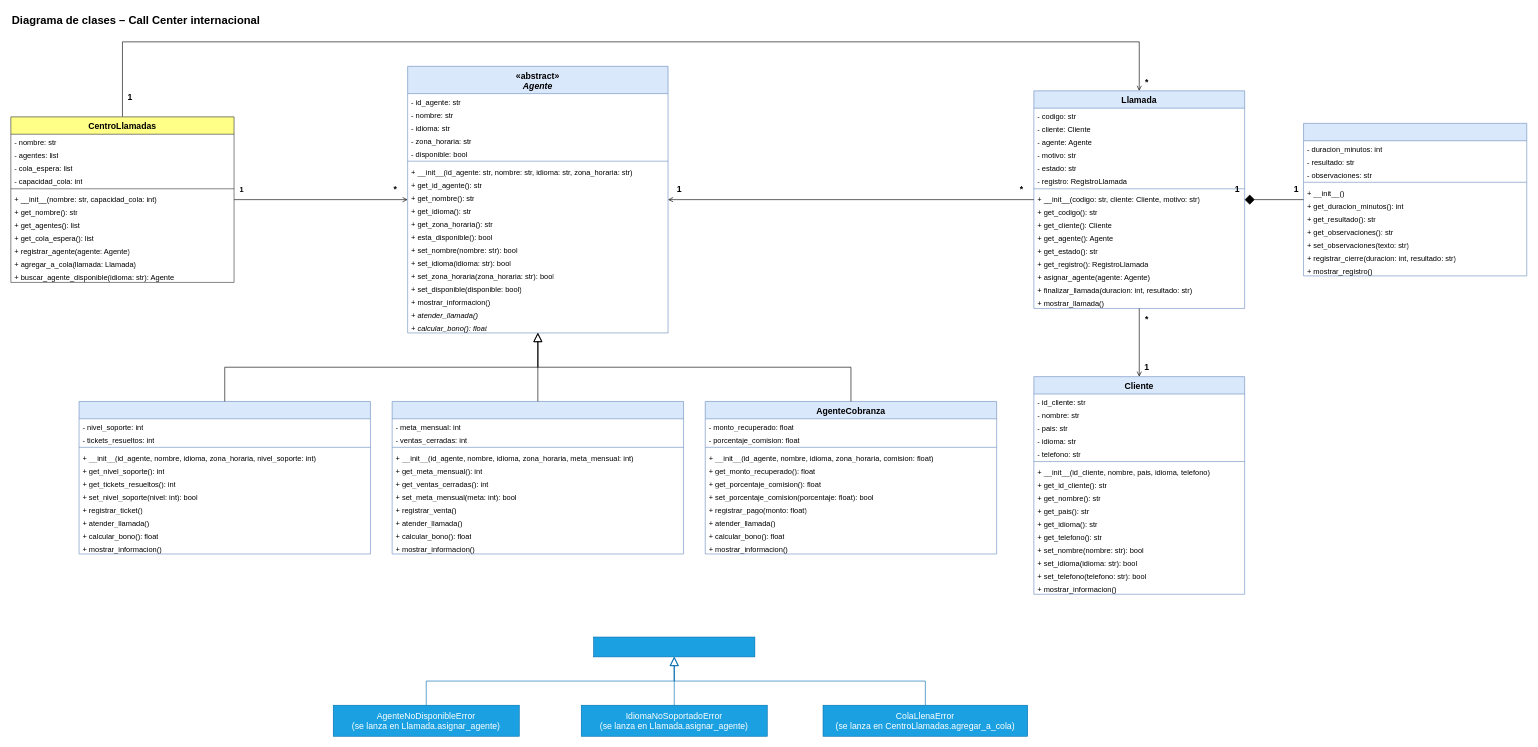
The diagram is 1538 pixels wide and 747 high, and some of its shapes have lost their labels. The box of each missing label's shape, as (x1, y1, x2, y2) in pixels:
AgenteSoporte: (78, 401, 370, 554)
AgenteVentas: (392, 401, 684, 554)
CallCenterError: (593, 636, 755, 657)
RegistroLlamada: (1303, 123, 1527, 276)
